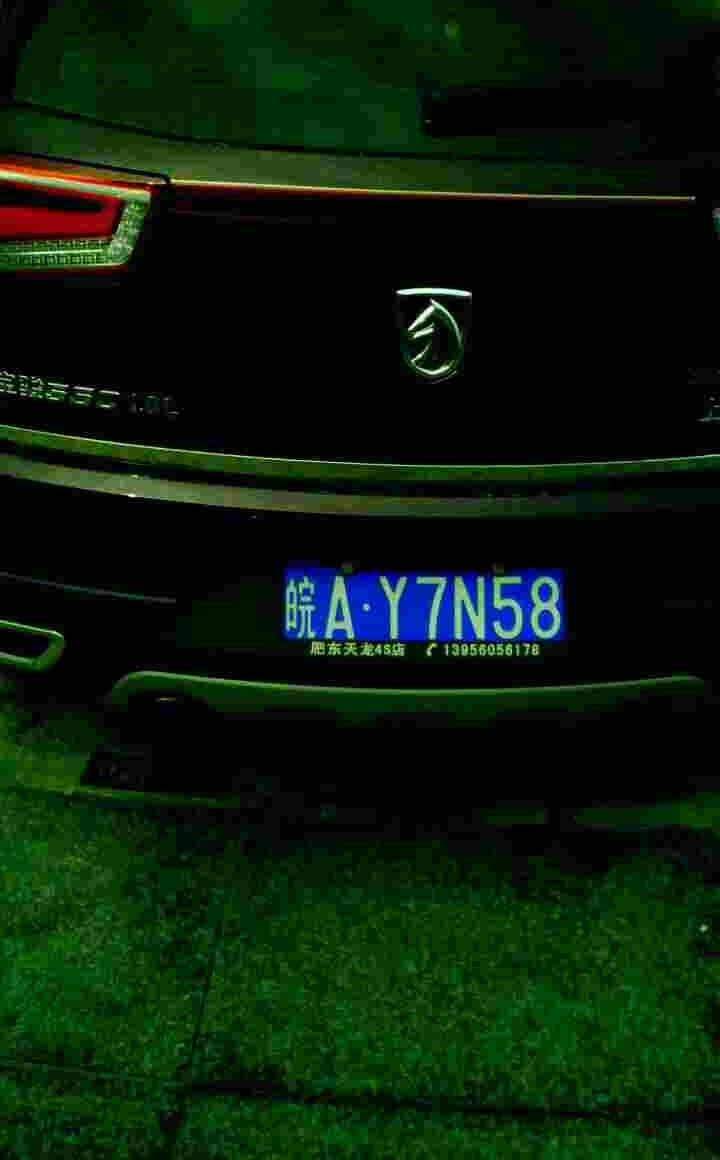license_plate: (267, 556, 566, 655)
